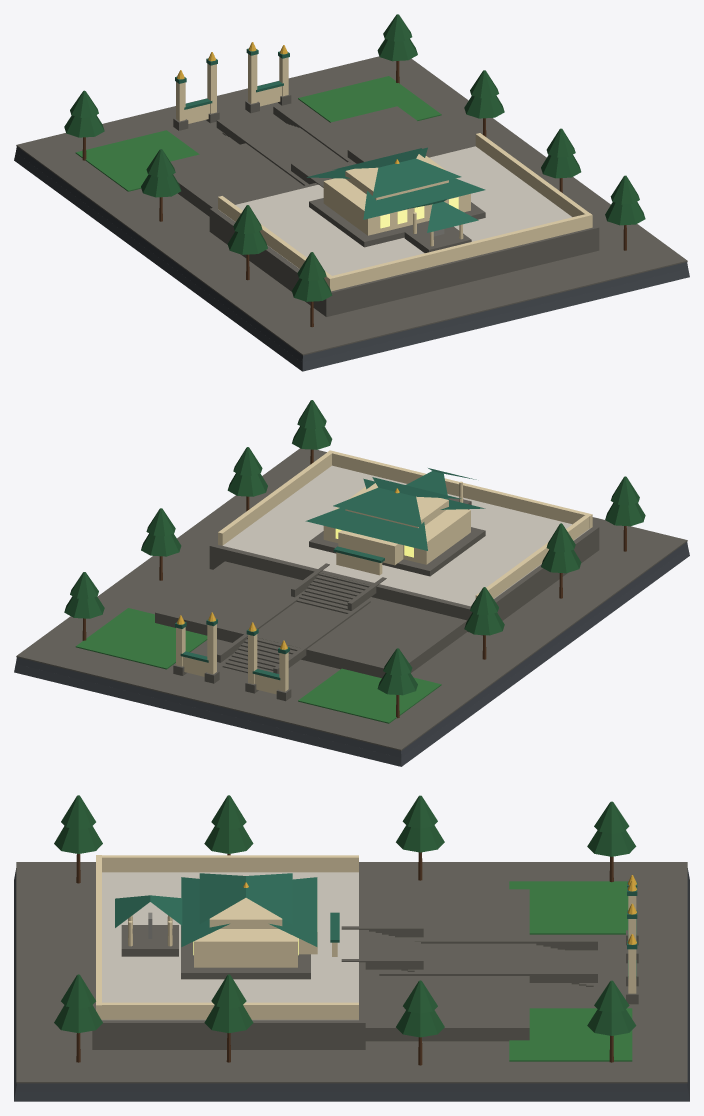
Rendered from lm_39_lang_nguyen_huu_hao.glb.
The picture shows the model from 3 angles, top to bottom: view 1: azimuth 30°, elevation 25°; view 2: azimuth 150°, elevation 25°; view 3: azimuth 270°, elevation 25°; orthographic projection. The views are drawn at different scales.
Parts seen in each view (by area): view 1: Foundation_Plinth_Trim, Mausoleum_Granite_Terraces_And_Stairs, Mausoleum_Imperial_Ochre_Walls, Mausoleum_Esplanade_Pave, Foundation_Skirt, Mausoleum_Pine_Canopies, Mausoleum_Hillside_Lawns, Mausoleum_Sanctuary_Upper_Roof, Mausoleum_Sanctuary_Lower_Roof, Mausoleum_Stelae_Pavilion_Roof, Mausoleum_Pine_Trunks, Mausoleum_Emerald_Glazed_Roofs; view 2: Foundation_Plinth_Trim, Mausoleum_Granite_Terraces_And_Stairs, Mausoleum_Esplanade_Pave, Mausoleum_Imperial_Ochre_Walls, Foundation_Skirt, Mausoleum_Pine_Canopies, Mausoleum_Hillside_Lawns, Mausoleum_Sanctuary_Lower_Roof, Mausoleum_Sanctuary_Upper_Roof, Mausoleum_Emerald_Glazed_Roofs, Mausoleum_Pine_Trunks, Mausoleum_Stelae_Pavilion_Roof; view 3: Foundation_Plinth_Trim, Mausoleum_Granite_Terraces_And_Stairs, Mausoleum_Esplanade_Pave, Mausoleum_Imperial_Ochre_Walls, Foundation_Skirt, Mausoleum_Pine_Canopies, Mausoleum_Hillside_Lawns, Mausoleum_Sanctuary_Upper_Roof, Mausoleum_Sanctuary_Lower_Roof, Mausoleum_Stelae_Pavilion_Roof, Mausoleum_Pine_Trunks, Mausoleum_Emerald_Glazed_Roofs.
Part boxes in pixels (<box>): Foundation_Plinth_Trim: <box>16,56,687,355</box>; Mausoleum_Granite_Terraces_And_Stairs: <box>170,93,599,316</box>; Mausoleum_Imperial_Ochre_Walls: <box>176,54,592,291</box>; Mausoleum_Esplanade_Pave: <box>218,146,572,275</box>; Foundation_Skirt: <box>14,146,689,371</box>; Mausoleum_Pine_Canopies: <box>64,14,645,301</box>; Mausoleum_Hillside_Lawns: <box>75,76,441,191</box>; Mausoleum_Sanctuary_Upper_Roof: <box>334,148,461,198</box>; Mausoleum_Sanctuary_Lower_Roof: <box>307,147,485,219</box>; Mausoleum_Stelae_Pavilion_Roof: <box>403,199,478,232</box>; Mausoleum_Pine_Trunks: <box>82,61,626,327</box>; Mausoleum_Emerald_Glazed_Roofs: <box>175,48,289,109</box>; Foundation_Plinth_Trim: <box>16,448,687,750</box>; Mausoleum_Granite_Terraces_And_Stairs: <box>155,498,599,701</box>; Mausoleum_Esplanade_Pave: <box>218,465,590,606</box>; Mausoleum_Imperial_Ochre_Walls: <box>176,450,592,694</box>; Foundation_Skirt: <box>14,542,689,766</box>; Mausoleum_Pine_Canopies: <box>64,400,645,695</box>; Mausoleum_Hillside_Lawns: <box>75,608,441,723</box>; Mausoleum_Sanctuary_Lower_Roof: <box>305,478,485,550</box>; Mausoleum_Sanctuary_Upper_Roof: <box>333,477,461,527</box>; Mausoleum_Emerald_Glazed_Roofs: <box>175,546,384,680</box>; Mausoleum_Pine_Trunks: <box>82,449,626,718</box>; Mausoleum_Stelae_Pavilion_Roof: <box>406,468,476,499</box>; Foundation_Plinth_Trim: <box>16,862,687,1083</box>; Mausoleum_Granite_Terraces_And_Stairs: <box>92,867,638,1049</box>; Mausoleum_Esplanade_Pave: <box>101,872,358,1020</box>; Mausoleum_Imperial_Ochre_Walls: <box>96,855,636,1019</box>; Foundation_Skirt: <box>14,868,689,1101</box>; Mausoleum_Pine_Canopies: <box>54,795,636,1037</box>; Mausoleum_Hillside_Lawns: <box>509,881,632,1061</box>; Mausoleum_Sanctuary_Upper_Roof: <box>199,873,292,924</box>; Mausoleum_Sanctuary_Lower_Roof: <box>181,877,317,946</box>; Mausoleum_Stelae_Pavilion_Roof: <box>115,895,182,927</box>; Mausoleum_Pine_Trunks: <box>76,852,613,1065</box>; Mausoleum_Emerald_Glazed_Roofs: <box>330,881,637,978</box>.
Bounding box in the file's own units: 76.69 × 17.5 × 98.89.
